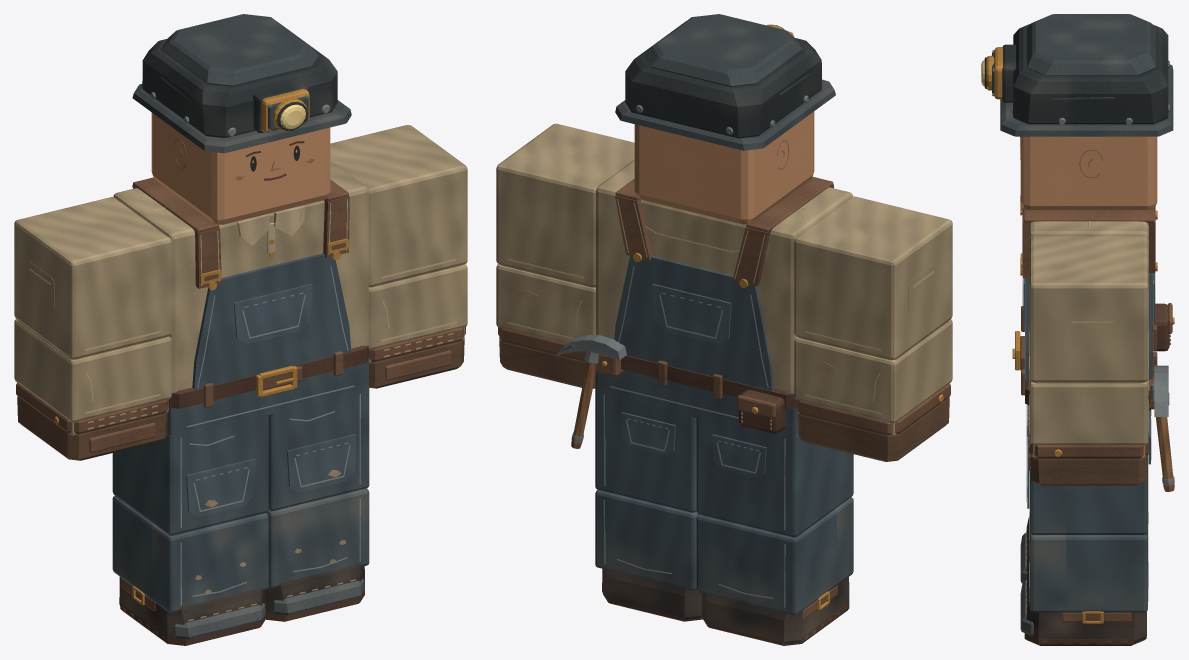
The model's file is Mineur_Complet.fbx.
3 renders of one model, left to right at view 1: azimuth 30°, elevation 25°; view 2: azimuth 150°, elevation 25°; view 3: azimuth 270°, elevation 25°, orthographic.
Visible parts, largest first — view 1: 04_Manche_RightUpperArm, 05_Salopette, 02_Casque, 04_Manche_LeftUpperArm, 04_Torse_Lin, 05_Jambe_RightUpperLeg, Head, 05_Jambe_RightLowerLeg, 05_Jambe_LeftUpperLeg, 04_Manche_RightLowerArm, 05_Jambe_LeftLowerLeg, 04_Manche_LeftLowerArm (+8 smaller); view 2: 04_Manche_RightUpperArm, 02_Casque, 05_Salopette, 04_Manche_LeftUpperArm, 04_Torse_Lin, 05_Jambe_RightUpperLeg, Head, 05_Jambe_RightLowerLeg, 05_Jambe_LeftUpperLeg, 04_Manche_RightLowerArm, 05_Jambe_LeftLowerLeg, 08_Gant_D (+8 smaller); view 3: 02_Casque, 04_Manche_LeftUpperArm, Head, 05_Jambe_LeftLowerLeg, 04_Manche_LeftLowerArm, 05_Jambe_LeftUpperLeg, 08_Gant_G, 09_Botte_G, 05_Salopette, 06_Ceinture, 07_Pioche, 03_Lampe (+3 smaller).
Part boxes in pixels (box(x1,y1,x2,y2)): 04_Manche_RightUpperArm: box(14, 197, 171, 359); 05_Salopette: box(132, 177, 351, 389); 02_Casque: box(132, 14, 351, 153); 04_Manche_LeftUpperArm: box(330, 125, 467, 287); 04_Torse_Lin: box(113, 160, 368, 392); 05_Jambe_RightUpperLeg: box(112, 413, 268, 535); Head: box(151, 112, 330, 224); 05_Jambe_RightLowerLeg: box(112, 496, 268, 612); 05_Jambe_LeftUpperLeg: box(268, 387, 369, 510); 04_Manche_RightLowerArm: box(14, 319, 171, 422); 05_Jambe_LeftLowerLeg: box(266, 488, 369, 588); 04_Manche_LeftLowerArm: box(368, 264, 467, 350); 04_Manche_RightUpperArm: box(794, 196, 952, 359); 02_Casque: box(615, 14, 835, 150); 05_Salopette: box(614, 177, 833, 390); 04_Manche_LeftUpperArm: box(496, 123, 634, 287); 04_Torse_Lin: box(596, 159, 852, 393); 05_Jambe_RightUpperLeg: box(696, 414, 853, 537); Head: box(634, 111, 814, 224); 05_Jambe_RightLowerLeg: box(696, 497, 853, 615); 05_Jambe_LeftUpperLeg: box(595, 388, 696, 512); 04_Manche_RightLowerArm: box(794, 319, 952, 423); 05_Jambe_LeftLowerLeg: box(595, 489, 698, 590); 08_Gant_D: box(798, 383, 950, 461); 02_Casque: box(1000, 14, 1173, 136); 04_Manche_LeftUpperArm: box(1029, 236, 1148, 382); Head: box(1020, 136, 1157, 209); 05_Jambe_LeftLowerLeg: box(1029, 532, 1148, 612); 04_Manche_LeftLowerArm: box(1029, 357, 1148, 445); 05_Jambe_LeftUpperLeg: box(1026, 411, 1151, 534); 08_Gant_G: box(1028, 400, 1148, 485); 09_Botte_G: box(1020, 565, 1146, 645); 05_Salopette: box(1020, 195, 1157, 381); 06_Ceinture: box(1012, 303, 1174, 409); 07_Pioche: box(1150, 365, 1174, 491); 03_Lampe: box(981, 44, 1015, 102).
Bounding box in the file's own units: 4.07 × 5.42 × 1.7.
Materials: 27 (27 with a texture image).
